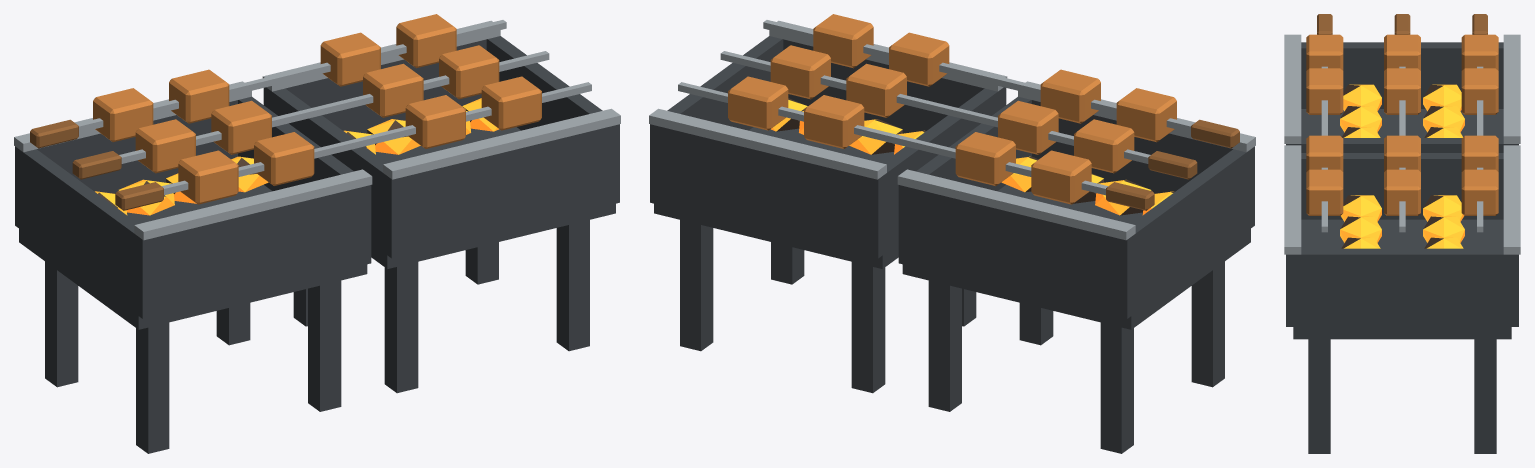
File: grill-double.glb
The picture shows the model from 3 angles, left to right: view 1: azimuth 30°, elevation 25°; view 2: azimuth 150°, elevation 25°; view 3: azimuth 270°, elevation 25°; orthographic projection. The views are drawn at different scales.
Parts seen in each view (by area): view 1: grill-double; view 2: grill-double; view 3: grill-double.
Part boxes in pixels (x1,y1,x2,y2): grill-double: [14, 14, 620, 453]; grill-double: [649, 14, 1255, 453]; grill-double: [1284, 14, 1520, 453].
Bounding box in the file's own units: 0.475 × 0.2545 × 0.222.
